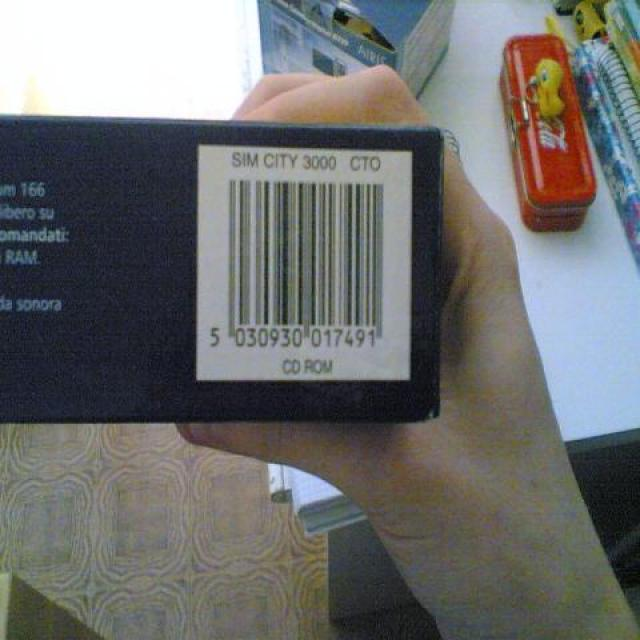Barcode: (197, 142, 412, 382)
